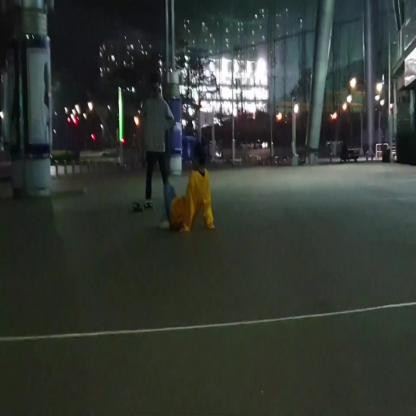Fall_Down: (160, 142, 216, 234)
